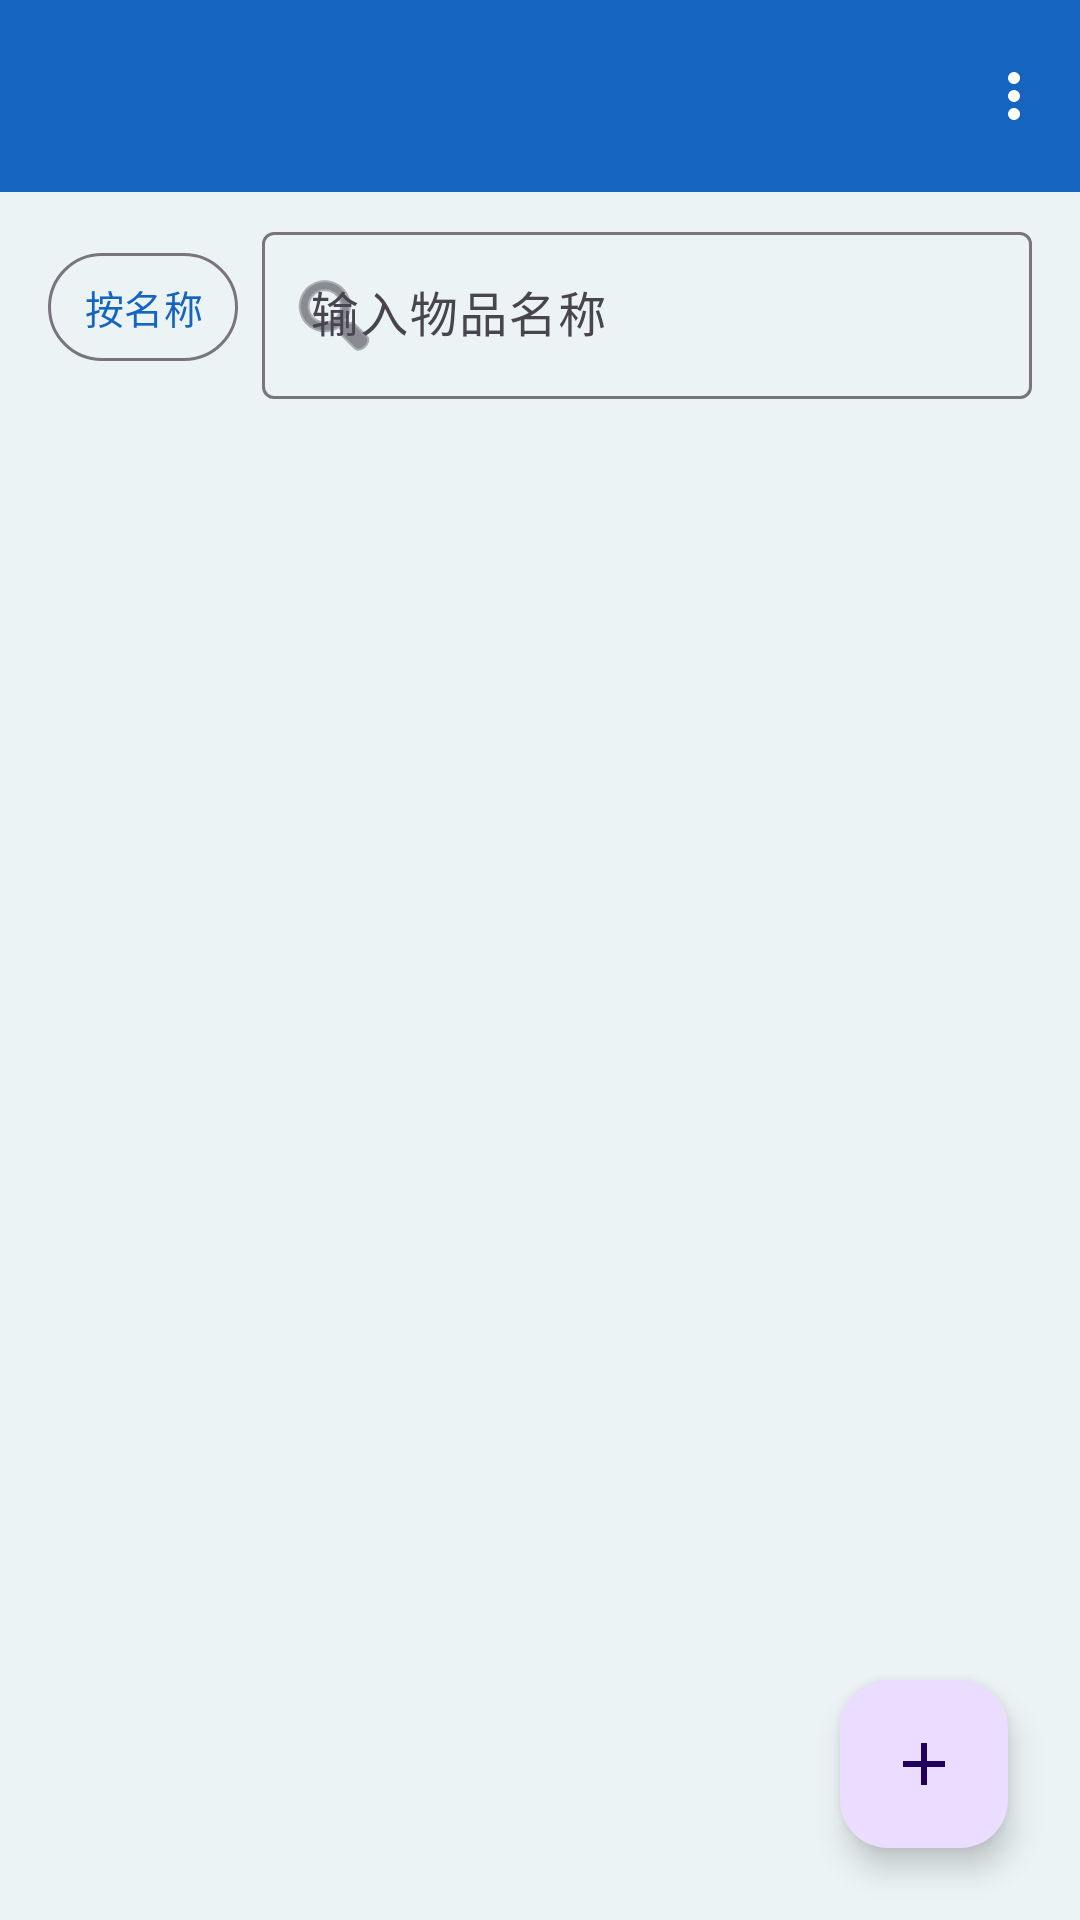

Icons on this 1080*1920 Android screen, each with the point to tap as (x=x, y=y):
添加物品: (x=924, y=1764)
